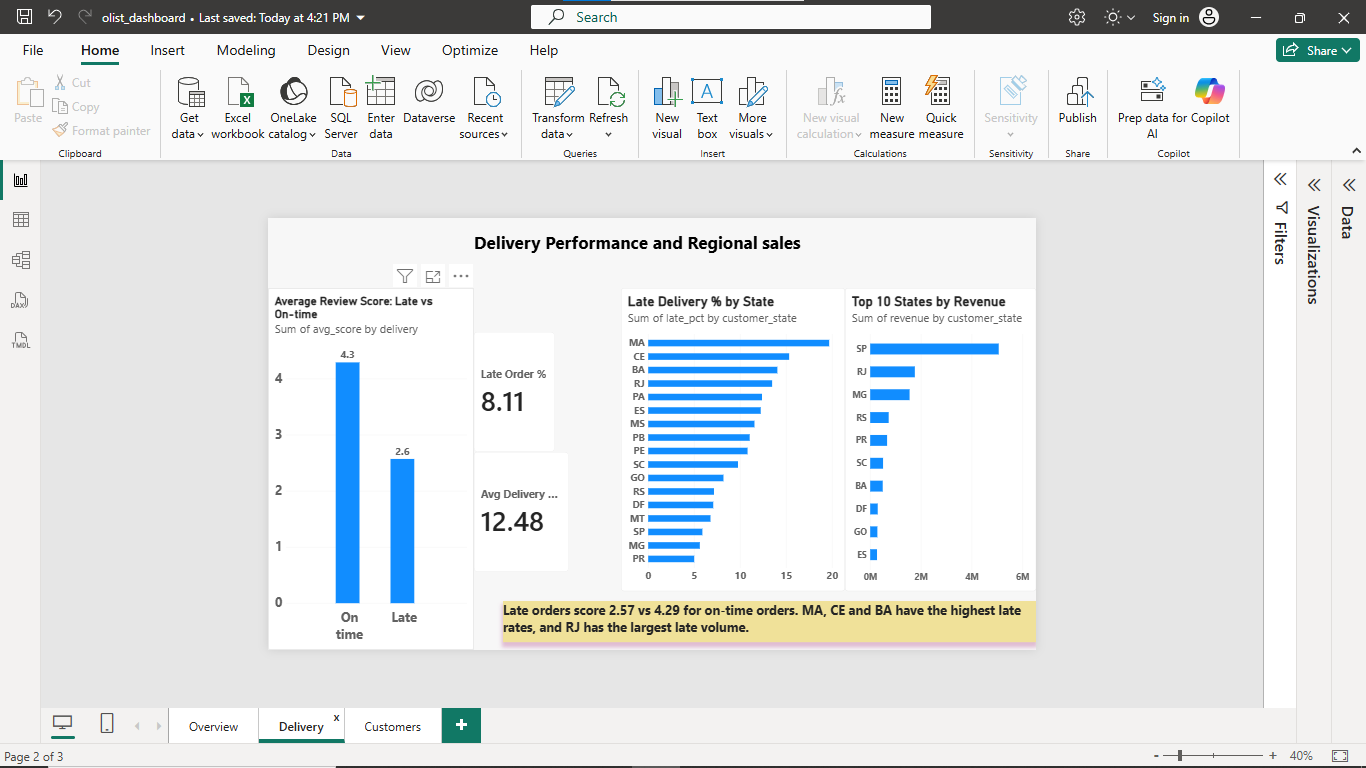

This screenshot's page, from the dashboard's own definition file:
{"tool":"powerbi","page":{"name":"Delivery","canvas":[1920,1080],"ordinal":1},"visuals":[{"type":"textbox","box":[514,32.8,1030.6,115.9],"z":0},{"type":"cardVisual","fields":{"Data":["state_summary.Late Order %"]},"box":[515,285,201.6,299.8],"z":1000},{"type":"cardVisual","fields":{"Data":["state_summary.Avg Delivery Days"]},"box":[515,585,236.9,299.8],"z":2000},{"type":"clusteredBarChart","title":"Top 10 States by Revenue","fields":{"Category":["state_summary.customer_state"],"Y":["Sum(state_summary.revenue)"]},"box":[1442.5,175,477.5,757.5],"z":3000},{"type":"clusteredBarChart","title":"Late Delivery % by State","fields":{"Category":["state_summary.customer_state"],"Y":["Sum(state_summary.late_pct)"]},"box":[882.5,175,560,757.5],"z":4000},{"type":"clusteredColumnChart","title":"Average Review Score: Late vs On-time","fields":{"Category":["review_by_delivery.delivery"],"Y":["Sum(review_by_delivery.avg_score)"]},"box":[0,175,515,905],"z":5000},{"type":"textbox","box":[587.5,957.5,1332.5,102.5],"z":6000}]}

Visuals, with their boxes on the page's 1920x1080 design canvas (x1, y1, x2, y2). These are canvas units, not pixel positions in the 1366x768 screenshot, which may show the page scaled, cropped or inside an application window:
textbox: left=514, top=33, right=1545, bottom=149
cardVisual - state_summary.Late Order %: left=515, top=285, right=717, bottom=585
cardVisual - state_summary.Avg Delivery Days: left=515, top=585, right=752, bottom=885
"Top 10 States by Revenue" clusteredBarChart: left=1442, top=175, right=1920, bottom=932
"Late Delivery % by State" clusteredBarChart: left=882, top=175, right=1442, bottom=932
"Average Review Score: Late vs On-time" clusteredColumnChart: left=0, top=175, right=515, bottom=1080
textbox: left=588, top=958, right=1920, bottom=1060
